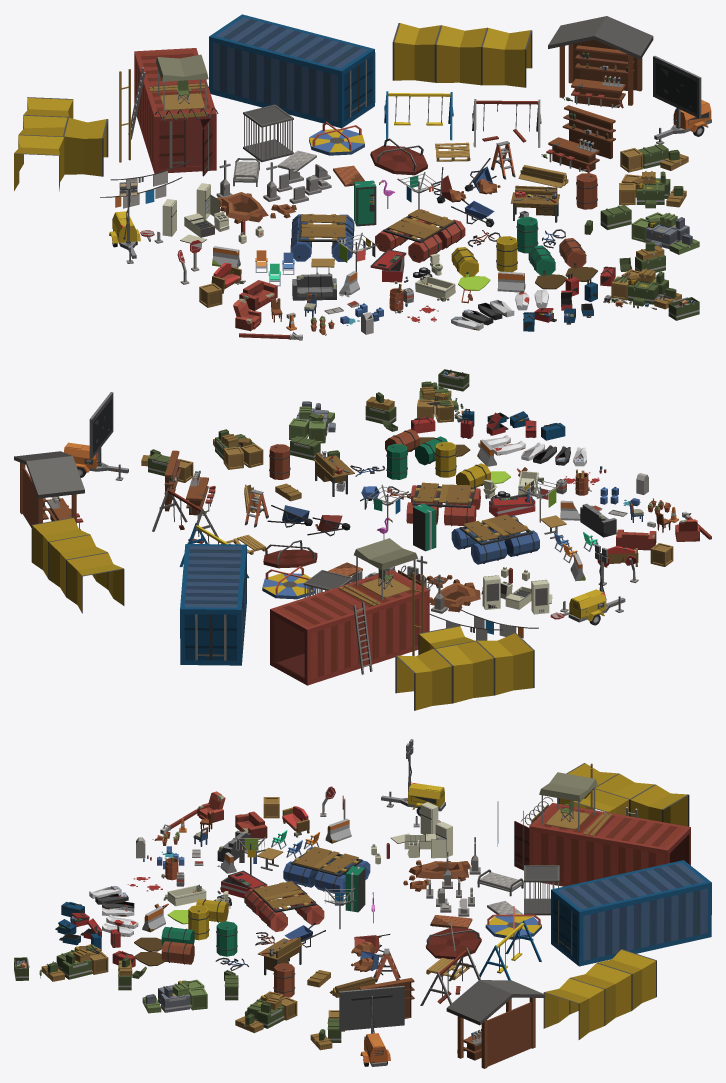
The model's file is apoc_object.glb.
3 renders of one model, top to bottom at view 1: azimuth 30°, elevation 25°; view 2: azimuth 150°, elevation 25°; view 3: azimuth 270°, elevation 25°, orthographic. The views are drawn at different scales.
Parts seen in each view (by area): view 1: Object_2; view 2: Object_2; view 3: Object_2.
Part boxes in pixels (x1,y1,x2,y2): Object_2: (14, 14, 711, 340); Object_2: (14, 369, 711, 710); Object_2: (14, 739, 711, 1068).
Bounding box in the file's own units: 7.44 × 1.2 × 8.
Materials: 1 (1 with a texture image).
